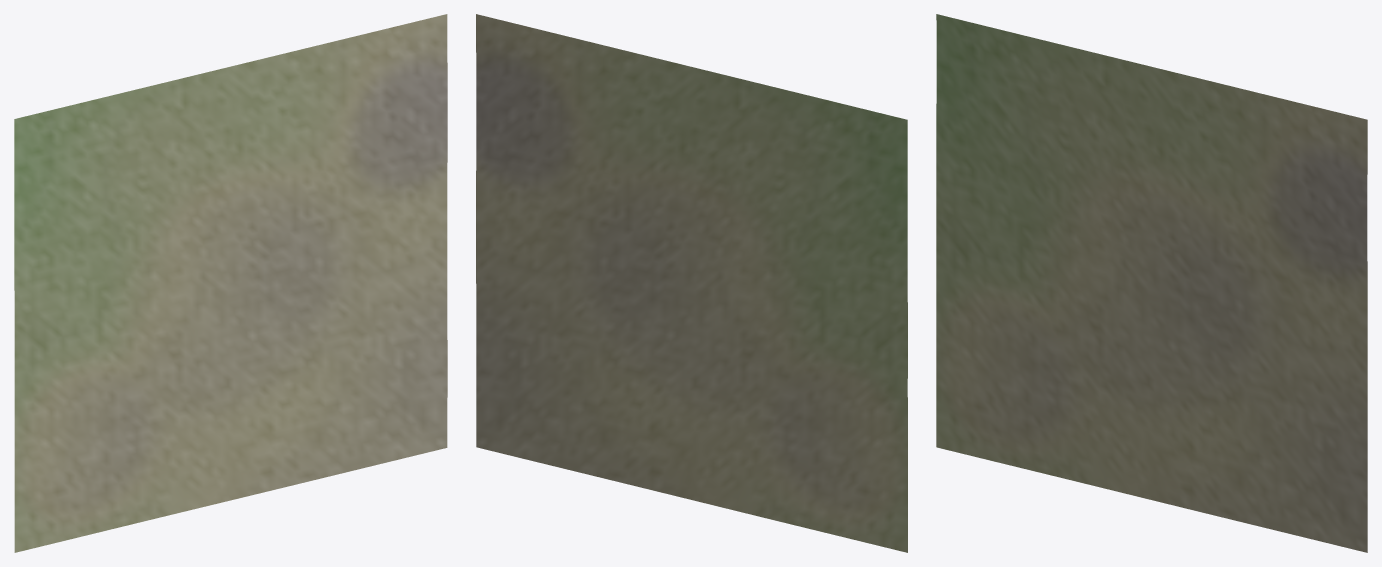
File: terrain-base.glb
The picture shows the model from 3 angles, left to right: view 1: azimuth 30°, elevation 25°; view 2: azimuth 150°, elevation 25°; view 3: azimuth 330°, elevation 25°; orthographic projection.
Parts seen in each view (by area): view 1: terrain-base; view 2: terrain-base; view 3: terrain-base.
Boxes of the visible parts, x1,y1,x2,y2 form: terrain-base: (14,14,447,552); terrain-base: (476,14,907,552); terrain-base: (936,14,1367,552).
Bounding box in the file's own units: 4320 × 4140 × 17.53.
